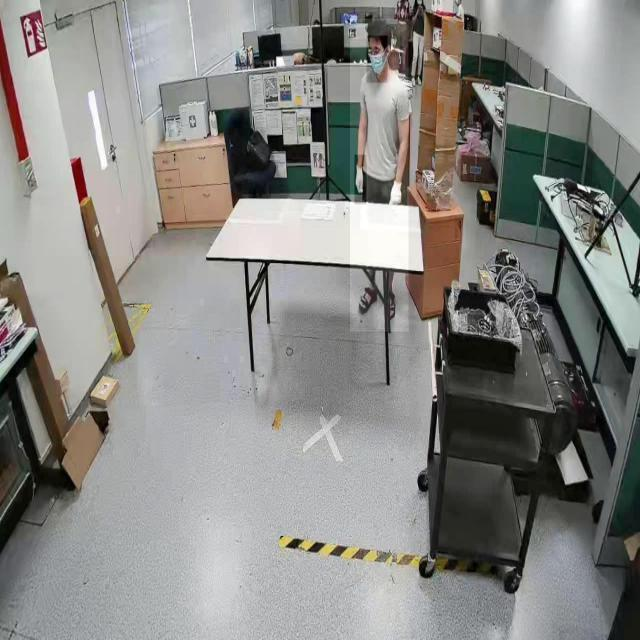gloves: (354, 154, 368, 206), (387, 173, 405, 207)
